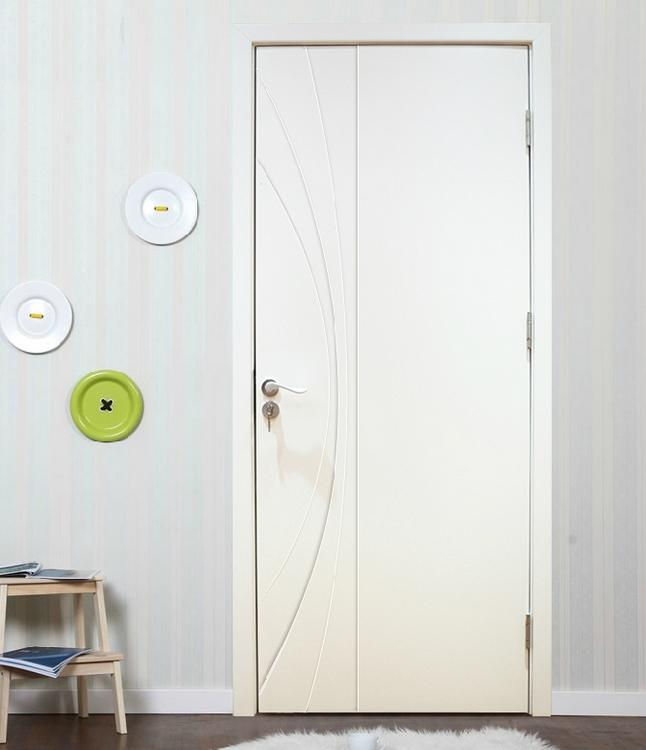door: (256, 42, 535, 709)
